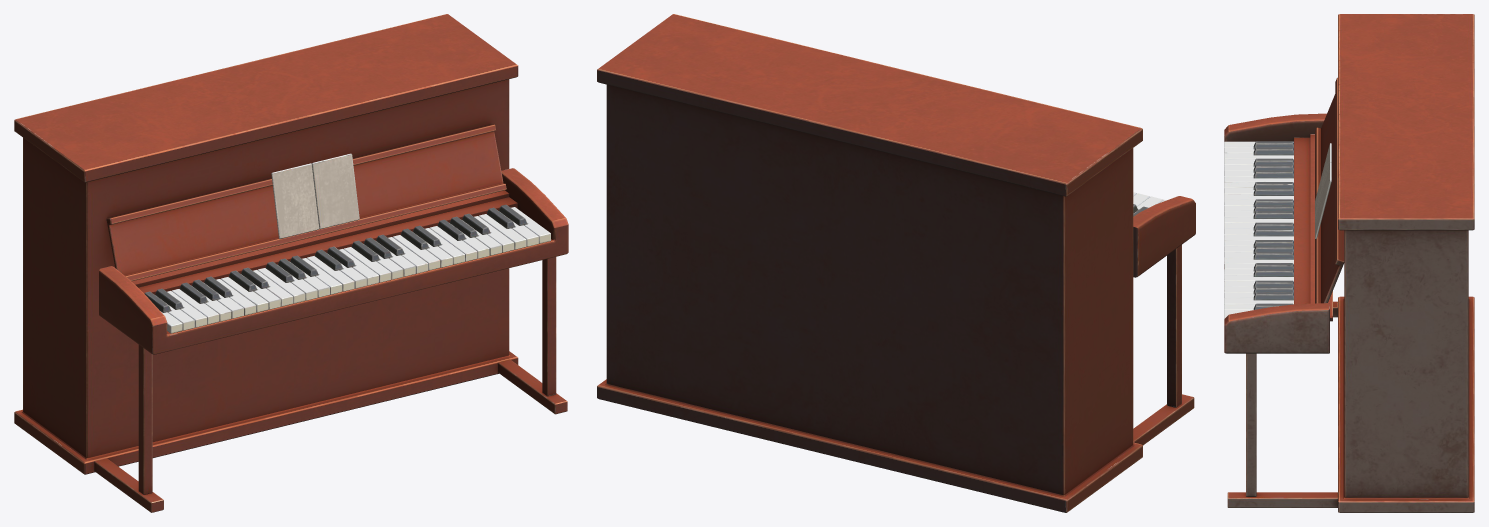
File: Piano_Final.fbx
3 views of the same model, side by side, from view 1: azimuth 30°, elevation 25°; view 2: azimuth 150°, elevation 25°; view 3: azimuth 270°, elevation 25° (orthographic). The views are drawn at different scales.
Parts seen in each view (by area): view 1: M_Piano_Table_low, M_Keyboard_Base_low, M_Paper_low; view 2: M_Piano_Table_low, M_Keyboard_Base_low; view 3: M_Piano_Table_low, M_Keyboard_Base_low, M_Paper_low, M_White_17_Key, M_White_07_Key, M_White_28_Key, M_White_21_Key, M_Black_02_Key, M_Black_20_Key, M_Black_07_Key, M_Black_15_Key, M_Black_05_Key (+7 smaller).
Part boxes in pixels (x1,y1,x2,y2): M_Piano_Table_low: (14, 14, 567, 512); M_Keyboard_Base_low: (99, 168, 568, 354); M_Paper_low: (271, 153, 359, 238); M_Piano_Table_low: (597, 14, 1194, 512); M_Keyboard_Base_low: (1133, 196, 1195, 277); M_Piano_Table_low: (1227, 14, 1474, 512); M_Keyboard_Base_low: (1224, 113, 1332, 353); M_Paper_low: (1315, 143, 1331, 239); M_White_17_Key: (1224, 234, 1293, 240); M_White_07_Key: (1224, 176, 1293, 182); M_White_28_Key: (1224, 298, 1293, 304); M_White_21_Key: (1224, 257, 1293, 263); M_Black_02_Key: (1254, 147, 1293, 155); M_Black_20_Key: (1254, 292, 1293, 300); M_Black_07_Key: (1254, 187, 1293, 195); M_Black_15_Key: (1254, 251, 1293, 259); M_Black_05_Key: (1254, 170, 1293, 178).
Size of the model in its own units: 6.26 by 4.19 by 3.23.
Materials: 1 (1 with a texture image).
